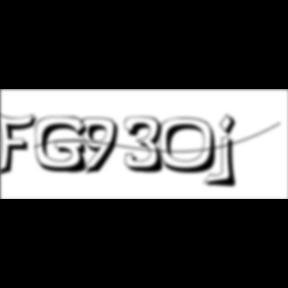3: (125, 116, 171, 176)
9: (80, 117, 126, 177)
F: (1, 110, 44, 178)
G: (36, 116, 94, 176)
O: (160, 117, 224, 176)
j: (216, 113, 244, 191)
